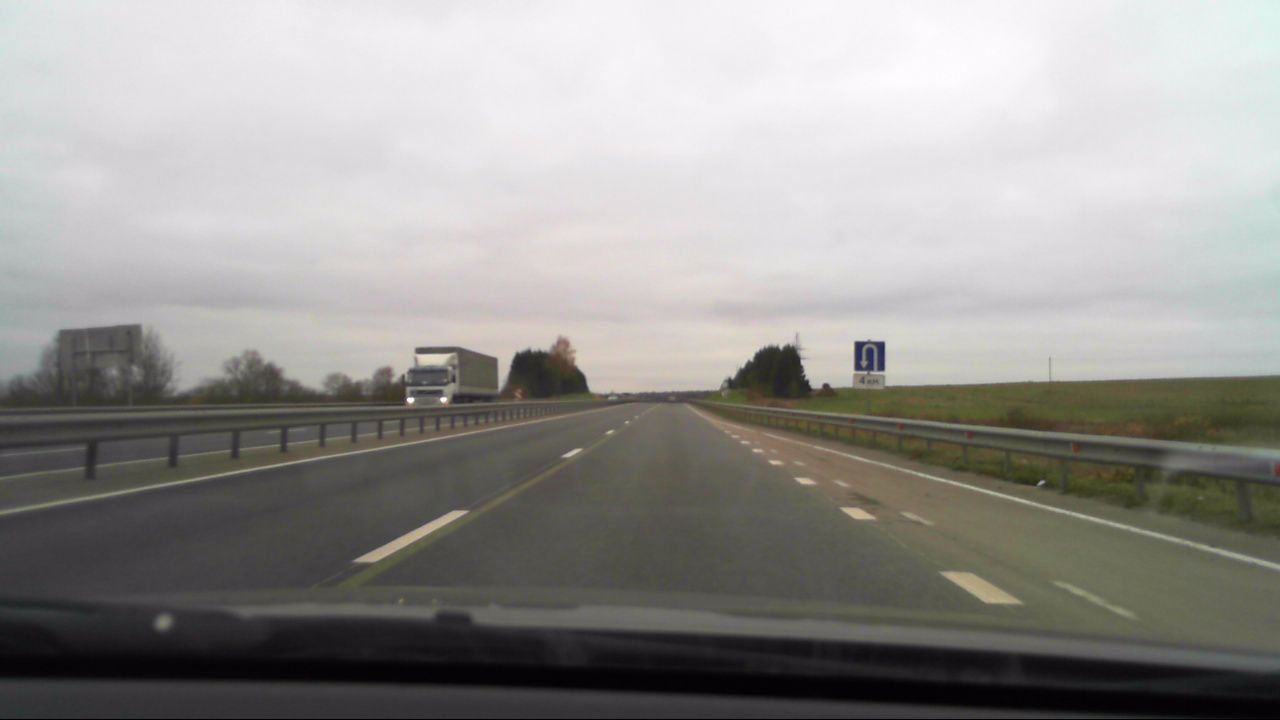U-turn: (855, 341, 884, 372)
